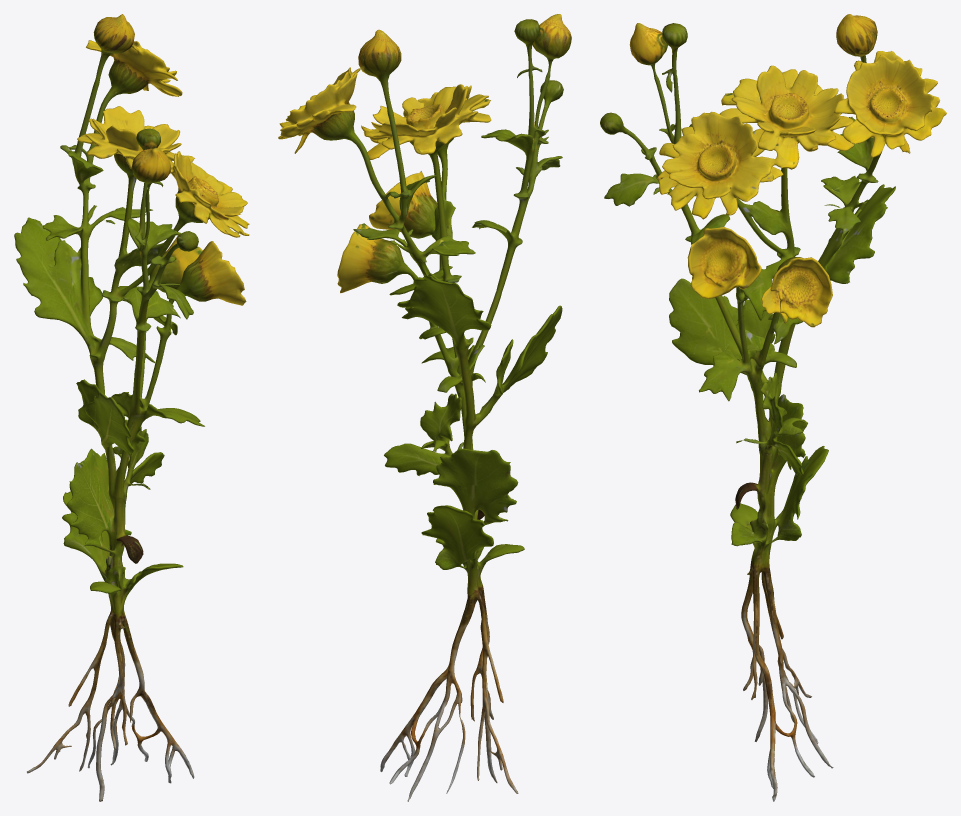
3 views of the same model, side by side, from view 1: azimuth 30°, elevation 25°; view 2: azimuth 150°, elevation 25°; view 3: azimuth 270°, elevation 25° (orthographic). The views are drawn at different scales.
Visible parts, largest first — view 1: tripo_node_148c6ed0-cda7-436c-a1d7-129cf1c34241; view 2: tripo_node_148c6ed0-cda7-436c-a1d7-129cf1c34241; view 3: tripo_node_148c6ed0-cda7-436c-a1d7-129cf1c34241.
Boxes of the visible parts, x1,y1,x2,y2 form: tripo_node_148c6ed0-cda7-436c-a1d7-129cf1c34241: (14, 14, 249, 801); tripo_node_148c6ed0-cda7-436c-a1d7-129cf1c34241: (278, 14, 571, 801); tripo_node_148c6ed0-cda7-436c-a1d7-129cf1c34241: (600, 14, 946, 801).
Bounding box in the file's own units: 0.2508 × 0.9783 × 0.3992.
Materials: 1 (1 with a texture image).
